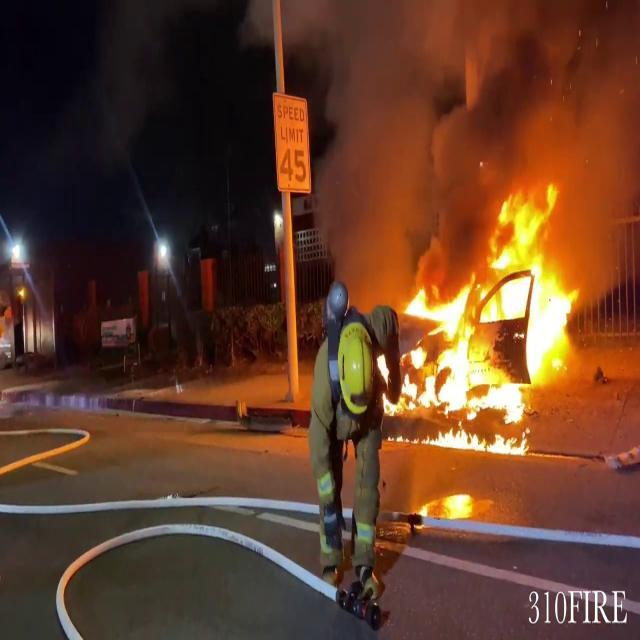Fire: (388, 180, 585, 452)
Smoke: (299, 0, 640, 268)
